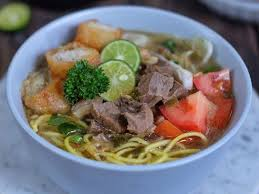soto: (26, 7, 241, 168)
